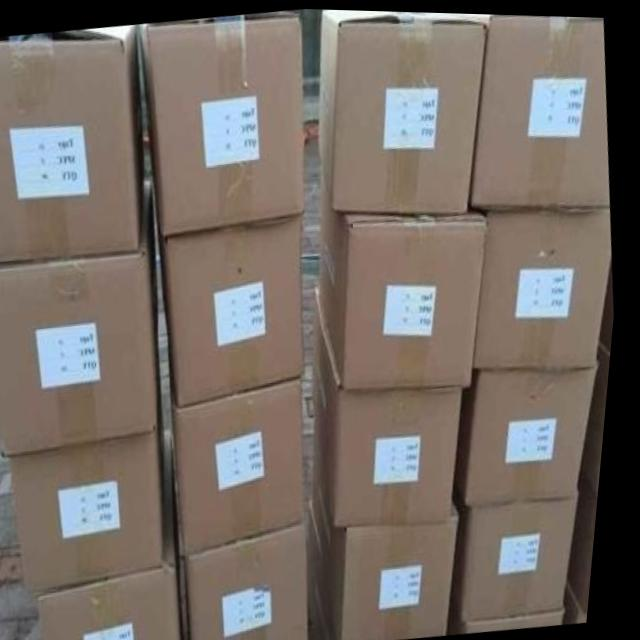box: (0, 180, 164, 456), (17, 341, 172, 591), (139, 9, 308, 234), (323, 163, 491, 387), (318, 283, 470, 524), (0, 24, 147, 263), (321, 8, 489, 211), (320, 418, 469, 639), (47, 428, 193, 640), (160, 211, 311, 406), (461, 11, 613, 203), (176, 373, 312, 553), (480, 204, 615, 365), (474, 357, 605, 500), (471, 486, 587, 620), (196, 518, 320, 640), (589, 338, 617, 491), (577, 469, 607, 609)
